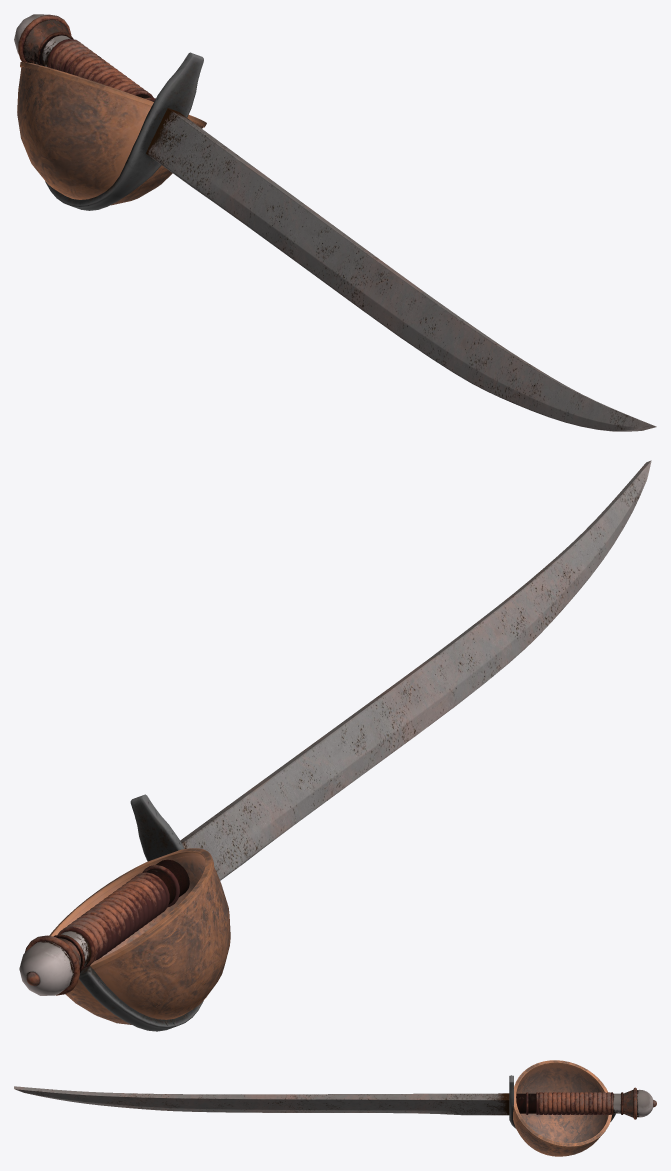
Rendered from PirateSword.fbx.
The picture shows the model from 3 angles, top to bottom: view 1: azimuth 30°, elevation 25°; view 2: azimuth 150°, elevation 25°; view 3: azimuth 270°, elevation 25°; orthographic projection. The views are drawn at different scales.
Parts seen in each view (by area): view 1: sword.Shape; view 2: sword.Shape; view 3: sword.Shape.
Boxes of the visible parts, <box> form: sword.Shape: <box>14,14,656,431</box>; sword.Shape: <box>19,460,651,1031</box>; sword.Shape: <box>14,1060,656,1156</box>.
Bounding box in the file's own units: 13.44 × 13.33 × 88.11.
